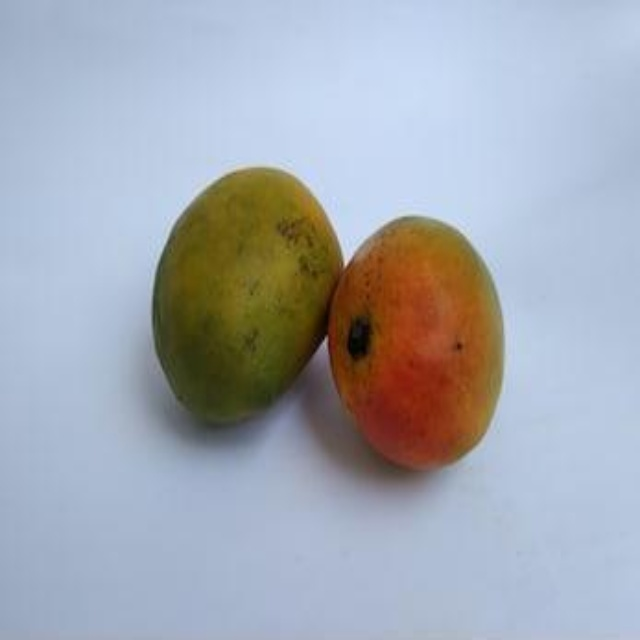mango: (145, 164, 346, 418), (324, 211, 504, 467)
